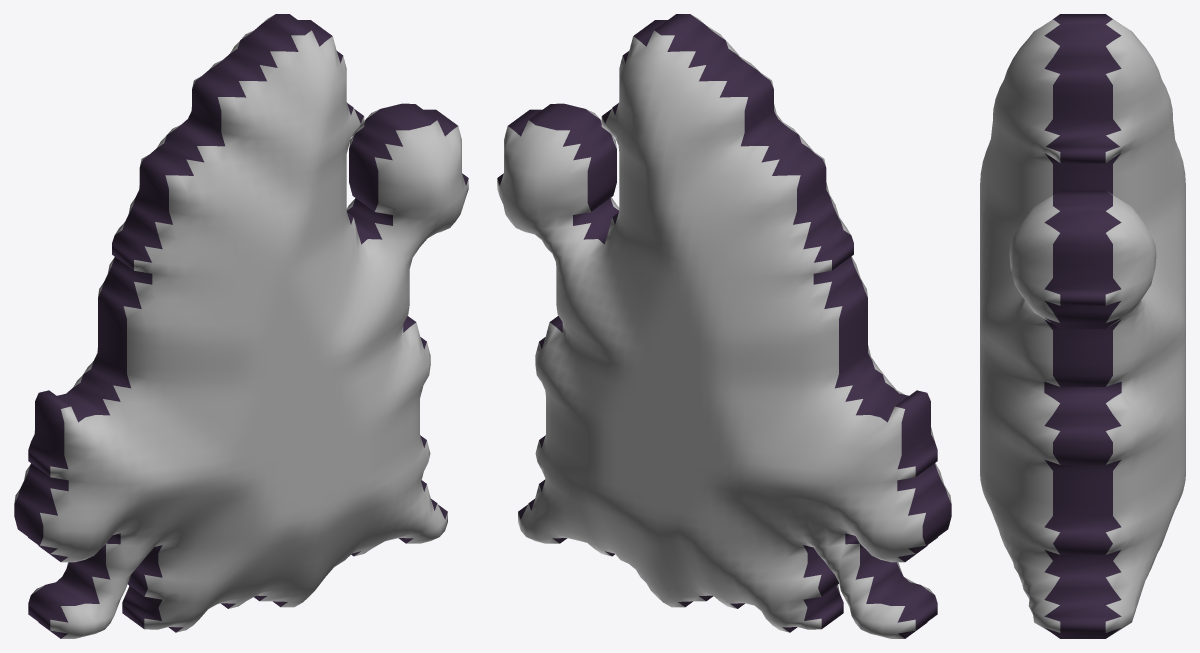
File: statue_strahd.glb
3 views of the same model, side by side, from view 1: azimuth 30°, elevation 25°; view 2: azimuth 150°, elevation 25°; view 3: azimuth 270°, elevation 25° (orthographic). The views are drawn at different scales.
Visible parts, largest first — view 1: statue_strahd; view 2: statue_strahd; view 3: statue_strahd.
Part boxes in pixels (x1,y1,x2,y2): statue_strahd: [14, 14, 468, 638]; statue_strahd: [497, 14, 951, 638]; statue_strahd: [980, 14, 1185, 638].
Bounding box in the file's own units: 0.9697 × 1.23 × 0.392.
